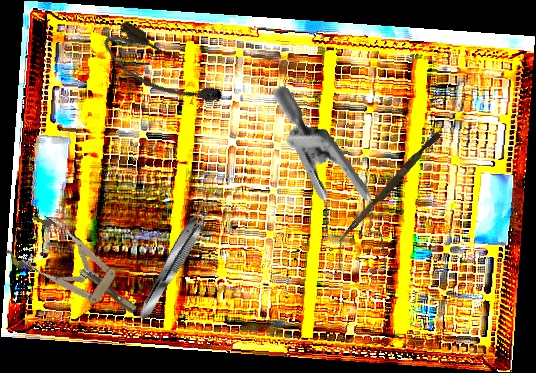Cannula: (96, 16, 230, 125)
Pusher: (336, 128, 442, 248)
Speculum: (205, 83, 441, 302), (2, 209, 151, 335)
Tissue Forceps: (133, 193, 219, 324)
